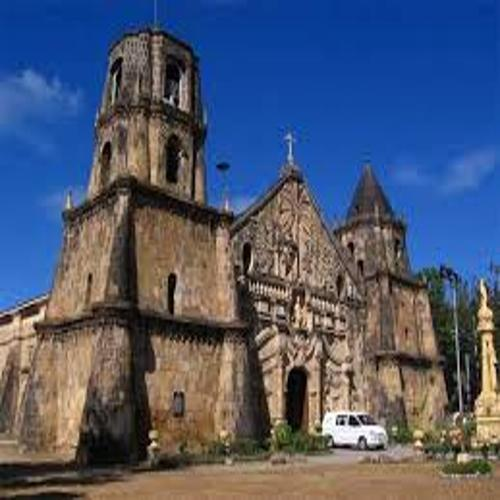Miagao Church: (46, 22, 446, 457)
